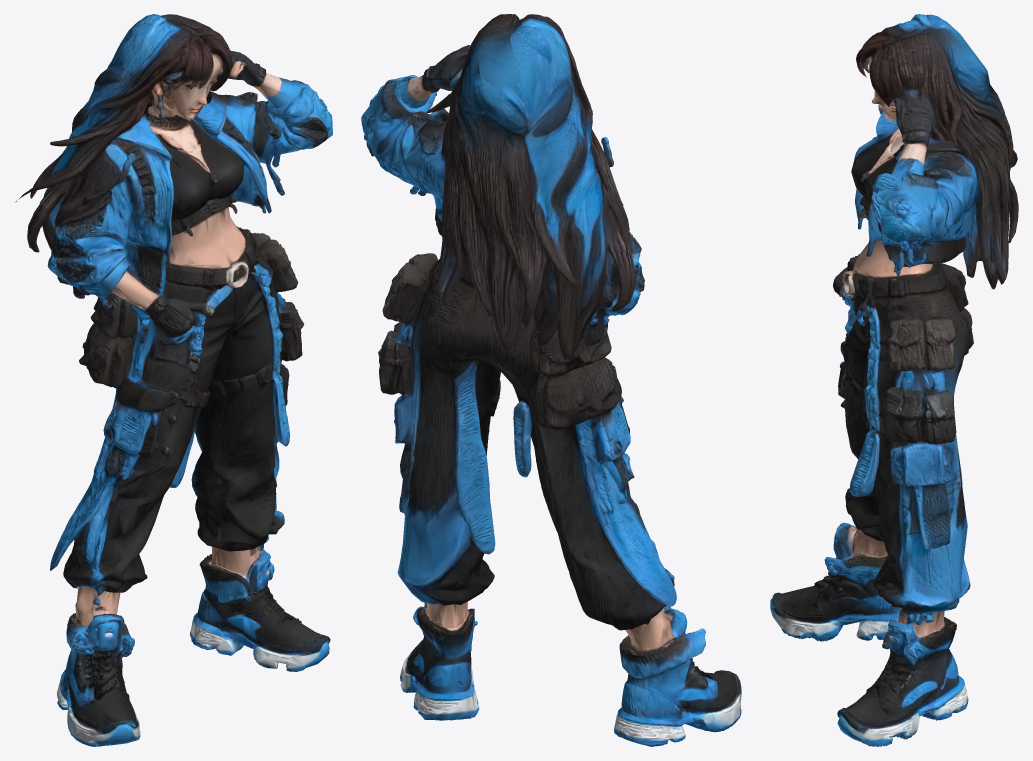
The model's file is azura.glb.
3 views of the same model, side by side, from view 1: azimuth 30°, elevation 25°; view 2: azimuth 150°, elevation 25°; view 3: azimuth 270°, elevation 25° (orthographic). The views are drawn at different scales.
Parts seen in each view (by area): view 1: model; view 2: model; view 3: model.
Part boxes in pixels (x1,y1,x2,y2): model: [15, 14, 332, 746]; model: [361, 14, 741, 746]; model: [770, 14, 1018, 746].
Size of the model in its own units: 0.897 by 1.9 by 0.6408.
Materials: 1 (1 with a texture image).
